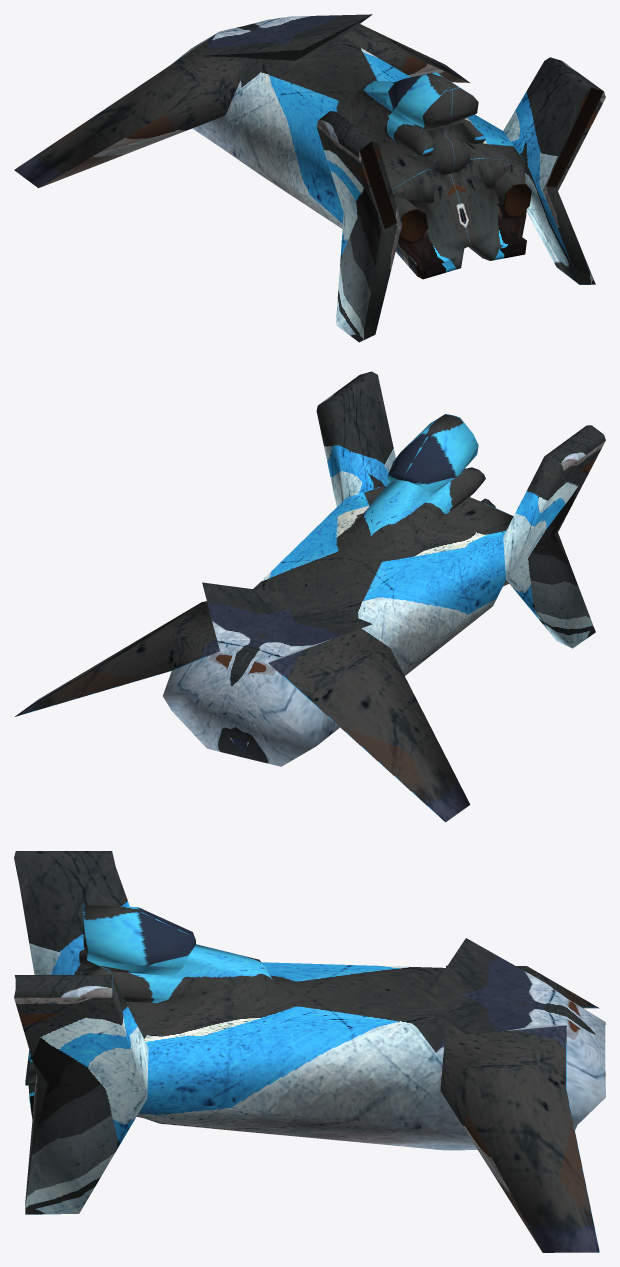
The model's file is 5_korabel.fbx.
3 renders of one model, top to bottom at view 1: azimuth 30°, elevation 25°; view 2: azimuth 150°, elevation 25°; view 3: azimuth 270°, elevation 25°, orthographic. The views are drawn at different scales.
Visible parts, largest first — view 1: Площина; view 2: Площина; view 3: Площина.
Boxes of the visible parts, <box> form: Площина: <box>14,14,605,342</box>; Площина: <box>15,371,605,822</box>; Площина: <box>14,851,605,1252</box>.
Bounding box in the file's own units: 140039 × 63871 × 143335.
1 material, 1 textured.
